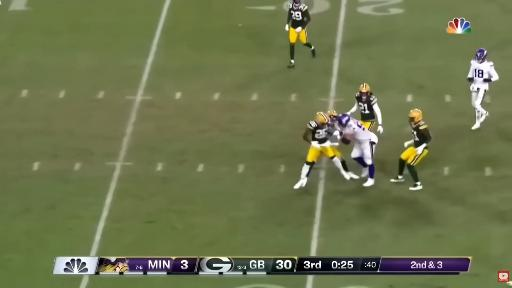Helmet: (473, 48, 488, 63), (409, 108, 423, 123), (316, 112, 329, 127), (338, 113, 351, 128), (359, 83, 371, 99), (328, 110, 338, 120), (292, 0, 301, 6)
Jersey: (468, 60, 498, 89), (342, 118, 371, 141), (355, 93, 376, 121), (288, 2, 309, 29), (307, 121, 329, 143), (411, 121, 428, 147)
Player: (294, 112, 350, 188), (391, 109, 431, 190), (338, 114, 377, 186), (468, 49, 498, 129), (286, 0, 315, 67), (347, 84, 383, 133), (333, 147, 359, 179)
